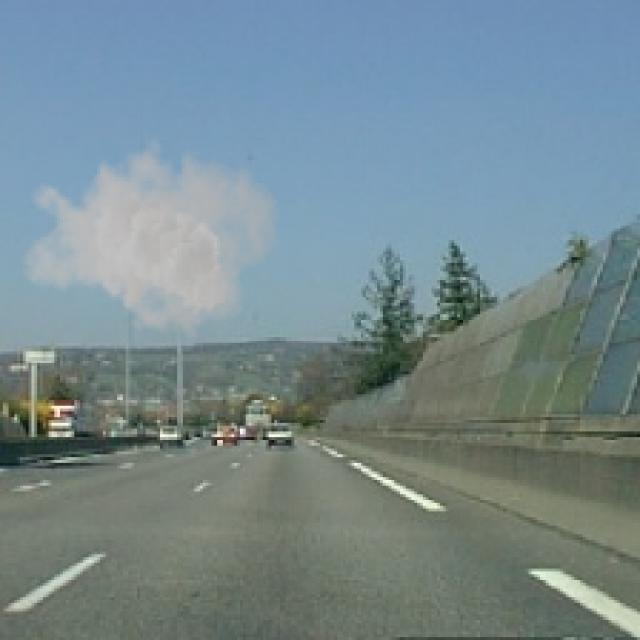smoke: (20, 126, 280, 340)
